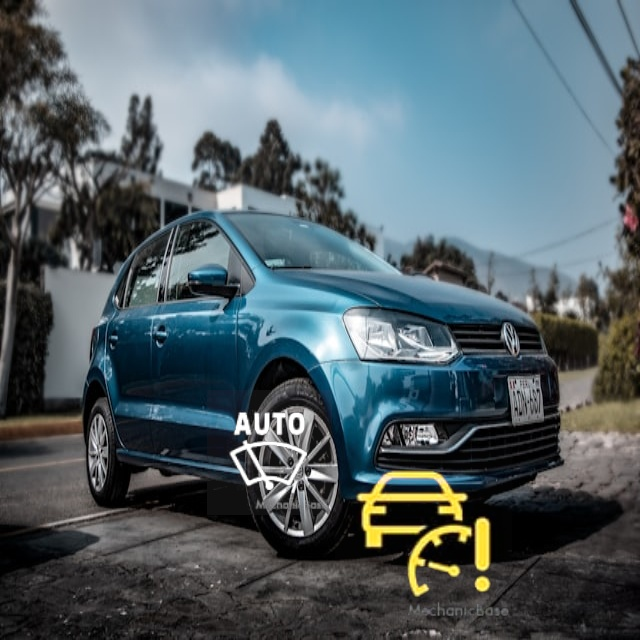symbol: (335, 446, 512, 623), (207, 390, 332, 515)
